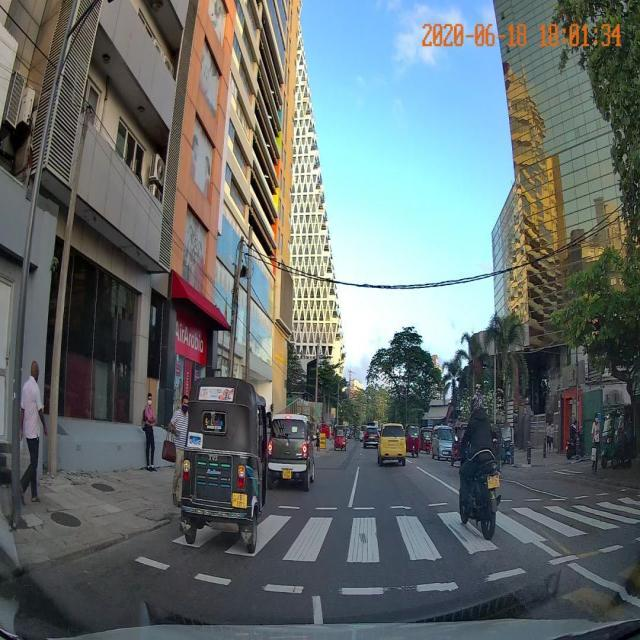Liniya 1: (414, 465, 460, 496), (347, 465, 360, 508)
Perehod: (173, 494, 640, 567)
